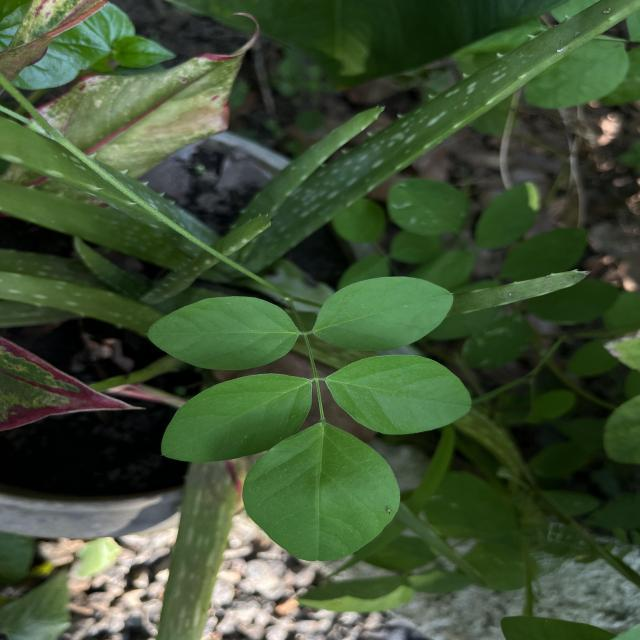Clitoria ternatea: (240, 422, 402, 562), (160, 373, 314, 463), (324, 353, 474, 436), (146, 294, 301, 372), (310, 275, 454, 353)
